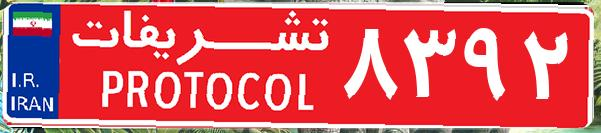2: (520, 20, 580, 115)
3: (400, 20, 460, 115)
8: (340, 20, 400, 115)
9: (460, 20, 520, 115)
تشریفات: (60, 8, 340, 125)
